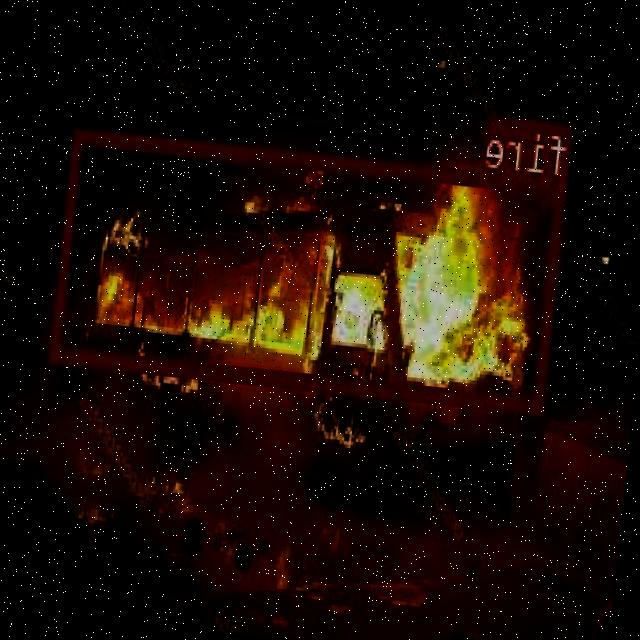fire: (53, 128, 569, 408)
